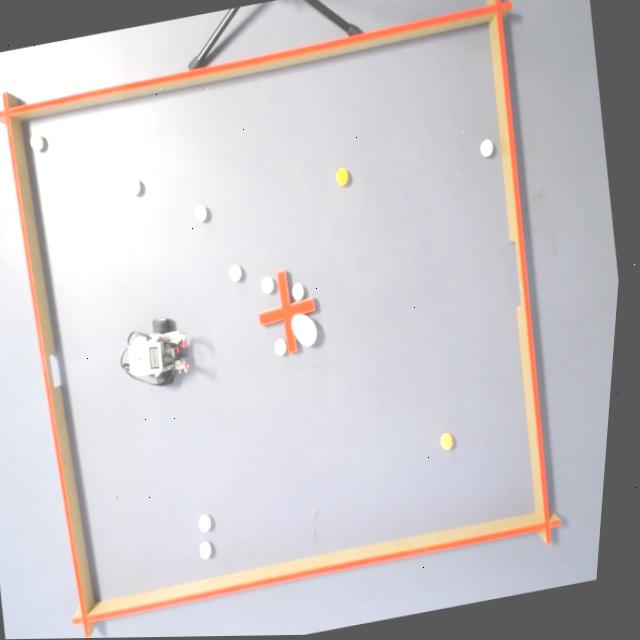boundaries: (0, 0, 571, 638), (22, 23, 544, 600)
cross: (262, 268, 320, 353)
egg: (291, 311, 325, 349)
large_goal: (506, 232, 537, 311)
orange_ball: (444, 430, 462, 453), (334, 166, 353, 187)
robot: (116, 309, 202, 394)
small_goal: (45, 347, 71, 391)
white_ball: (478, 137, 497, 159), (204, 539, 221, 561), (229, 262, 247, 282), (29, 131, 46, 152), (194, 201, 211, 222), (127, 175, 144, 195), (262, 274, 279, 294), (277, 336, 293, 357), (293, 281, 309, 301), (204, 512, 220, 532)
